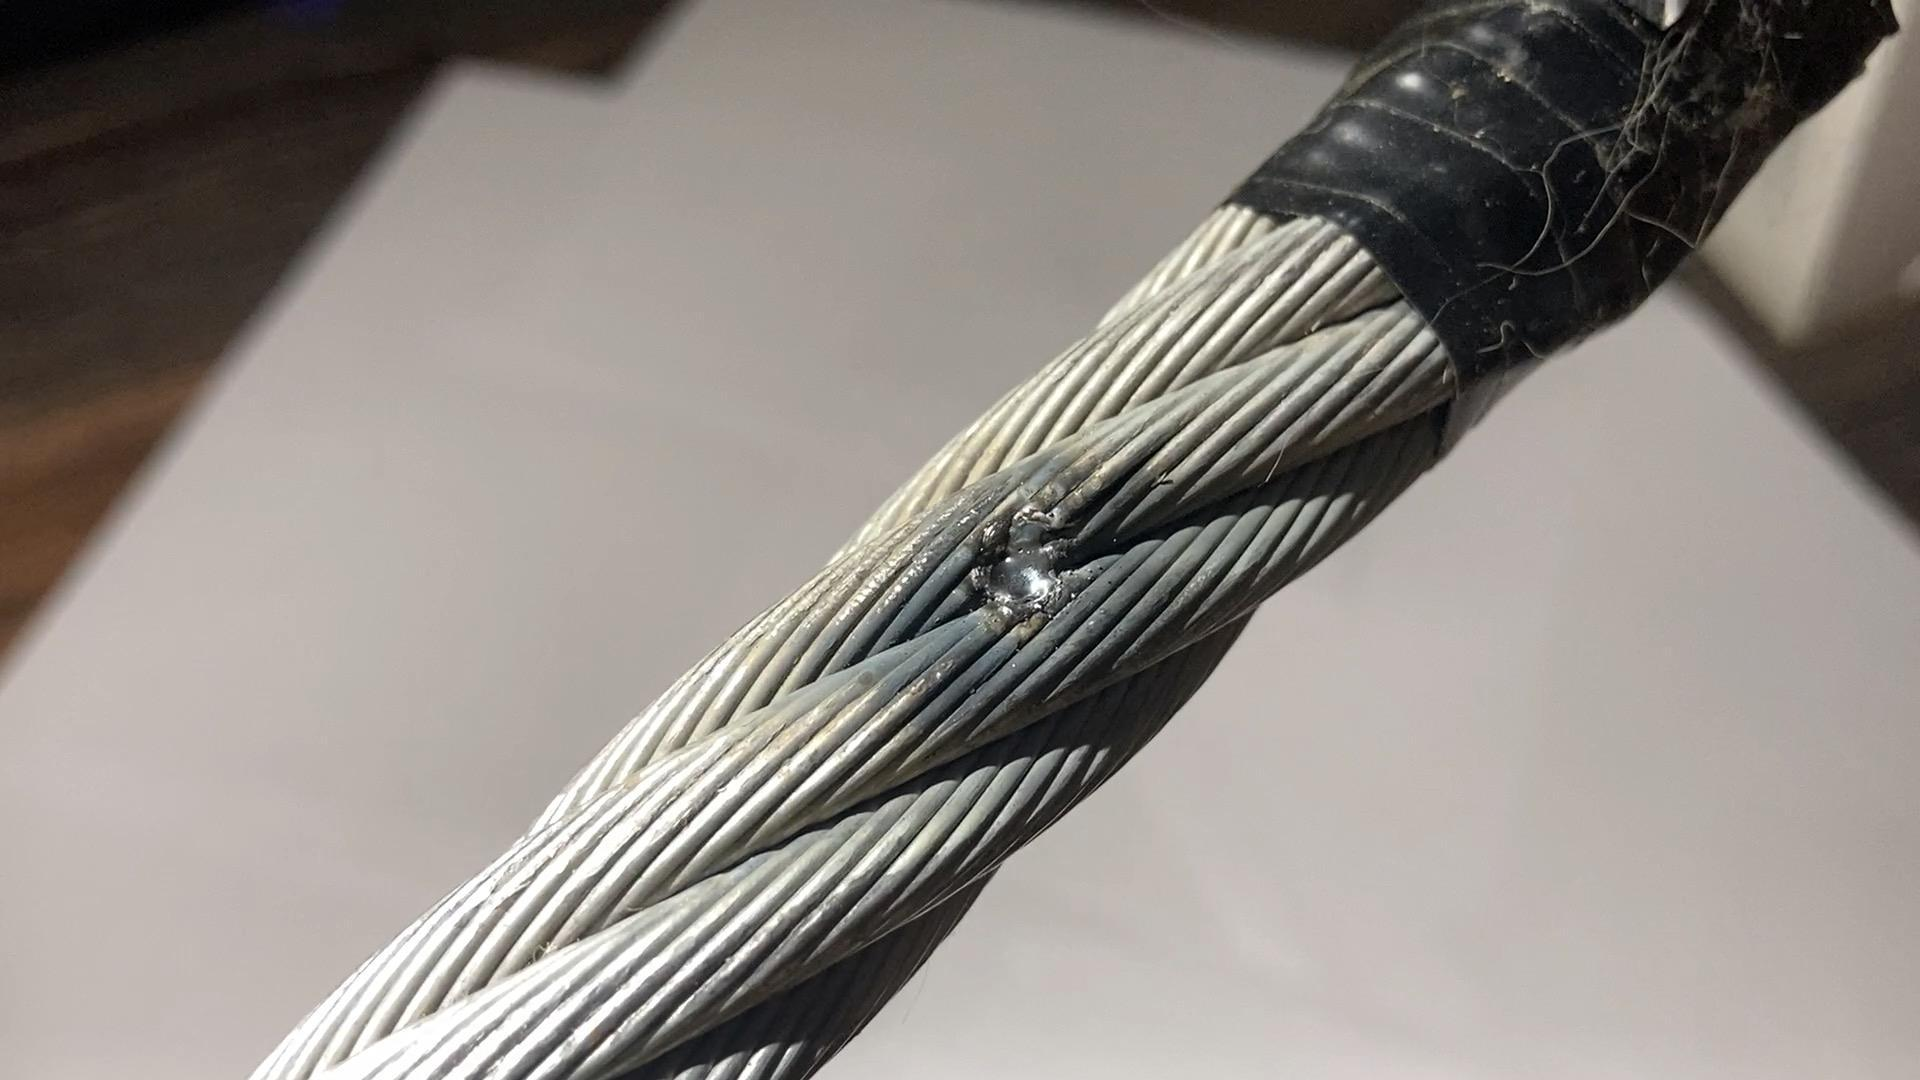thunderbolt: (951, 477, 1097, 634)
